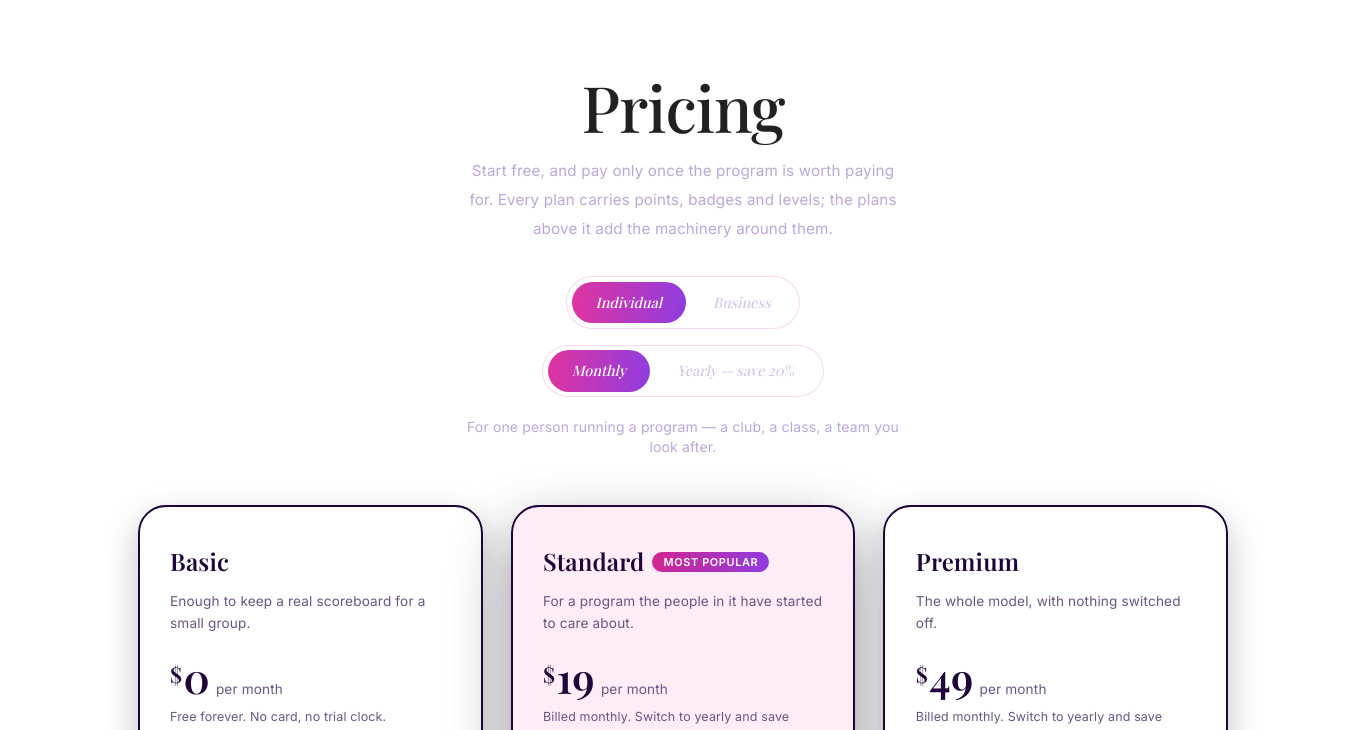
Test case: who the plans are for › shows the business plans instead when they are asked for
What coordinates should you click on to do the following:
click the button "Business"
I would click on:
 (742, 302)
Its box is [689,282,794,323].
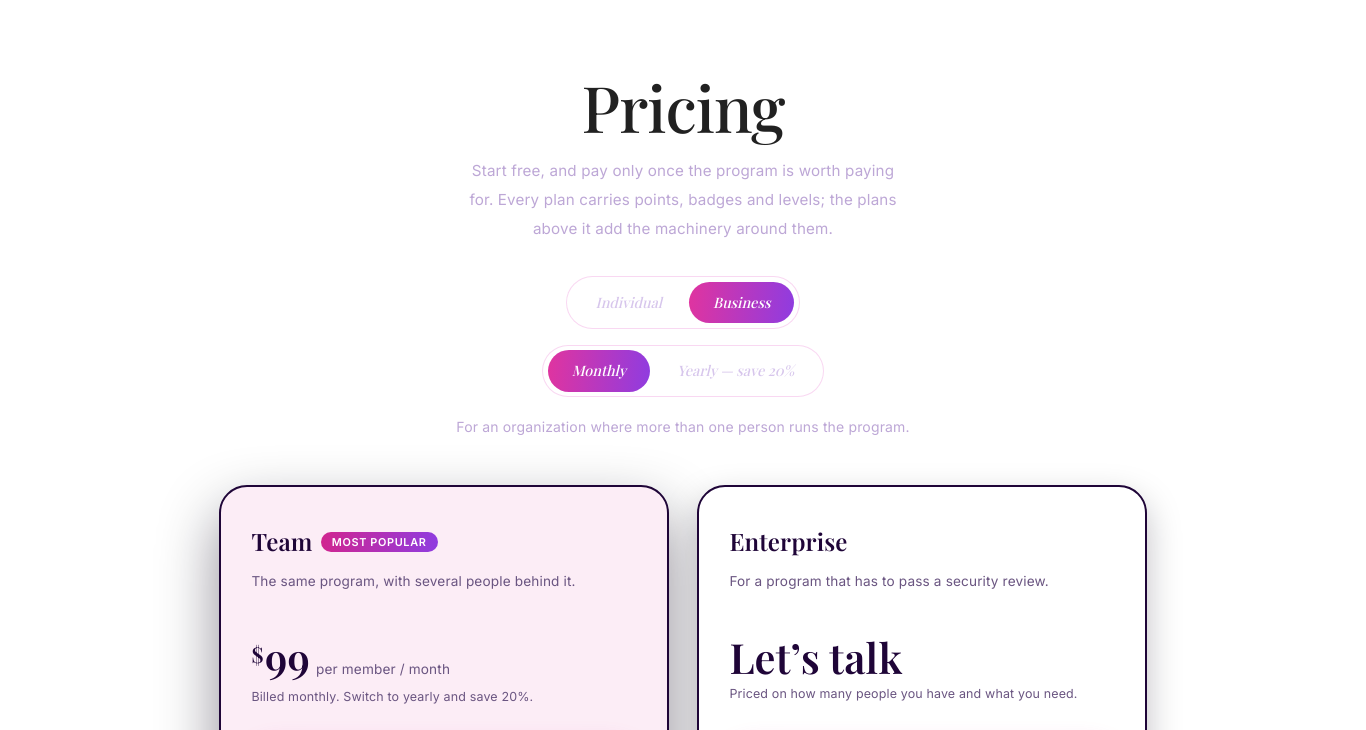
Expected: the heading "Team" is shown, [251,519,313,565]
Expected: the heading "Enterprise" is shown, [729,519,848,565]
Expected: the heading "Basic" is gone
